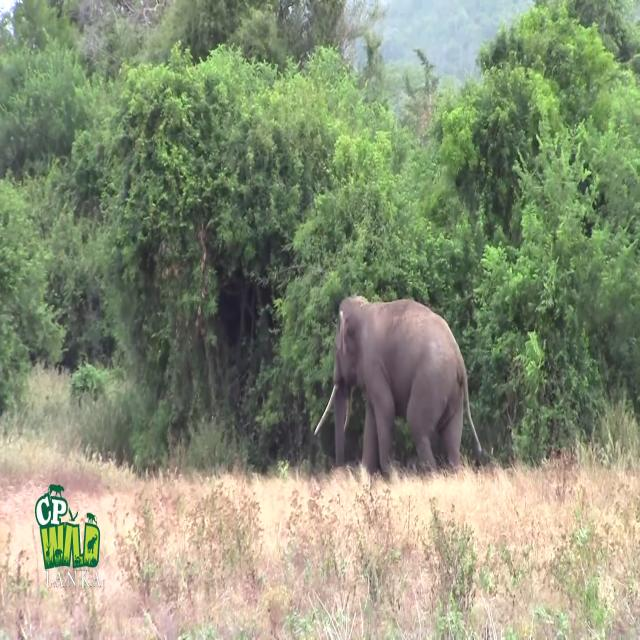Elephant: (314, 294, 484, 481)
